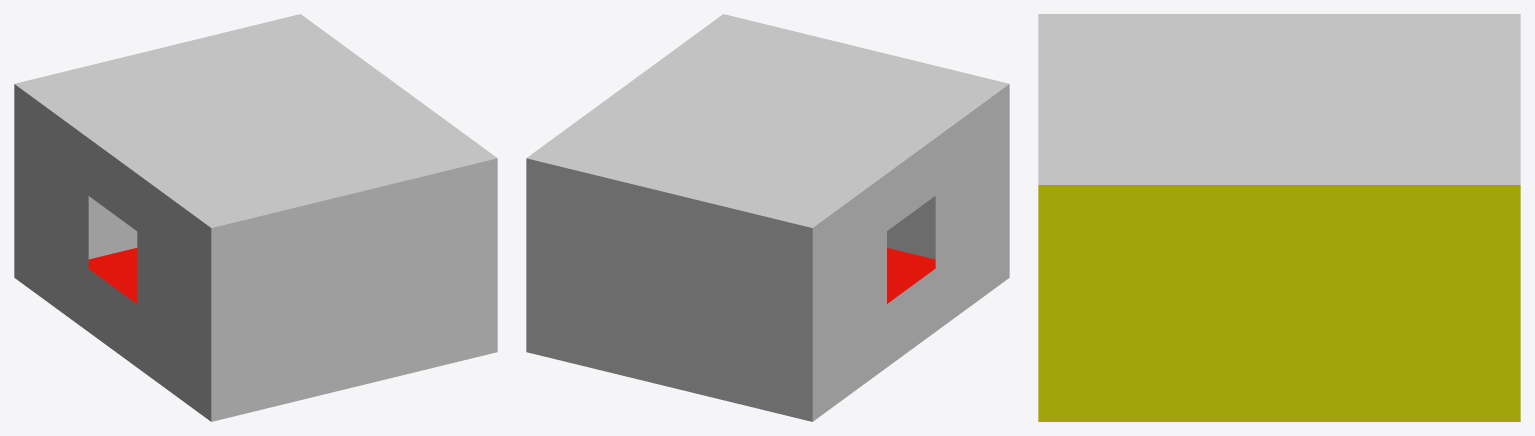
File: DarkBox.FBX
3 views of the same model, side by side, from view 1: azimuth 30°, elevation 25°; view 2: azimuth 150°, elevation 25°; view 3: azimuth 270°, elevation 25° (orthographic). The views are drawn at different scales.
Parts seen in each view (by area): view 1: Box01; view 2: Box01; view 3: Box01.
Boxes of the visible parts, x1,y1,x2,y2 form: Box01: (14, 14, 497, 421); Box01: (526, 14, 1009, 421); Box01: (1038, 14, 1520, 421).
Size of the model in its own units: 39 by 46.5 by 25.23.
